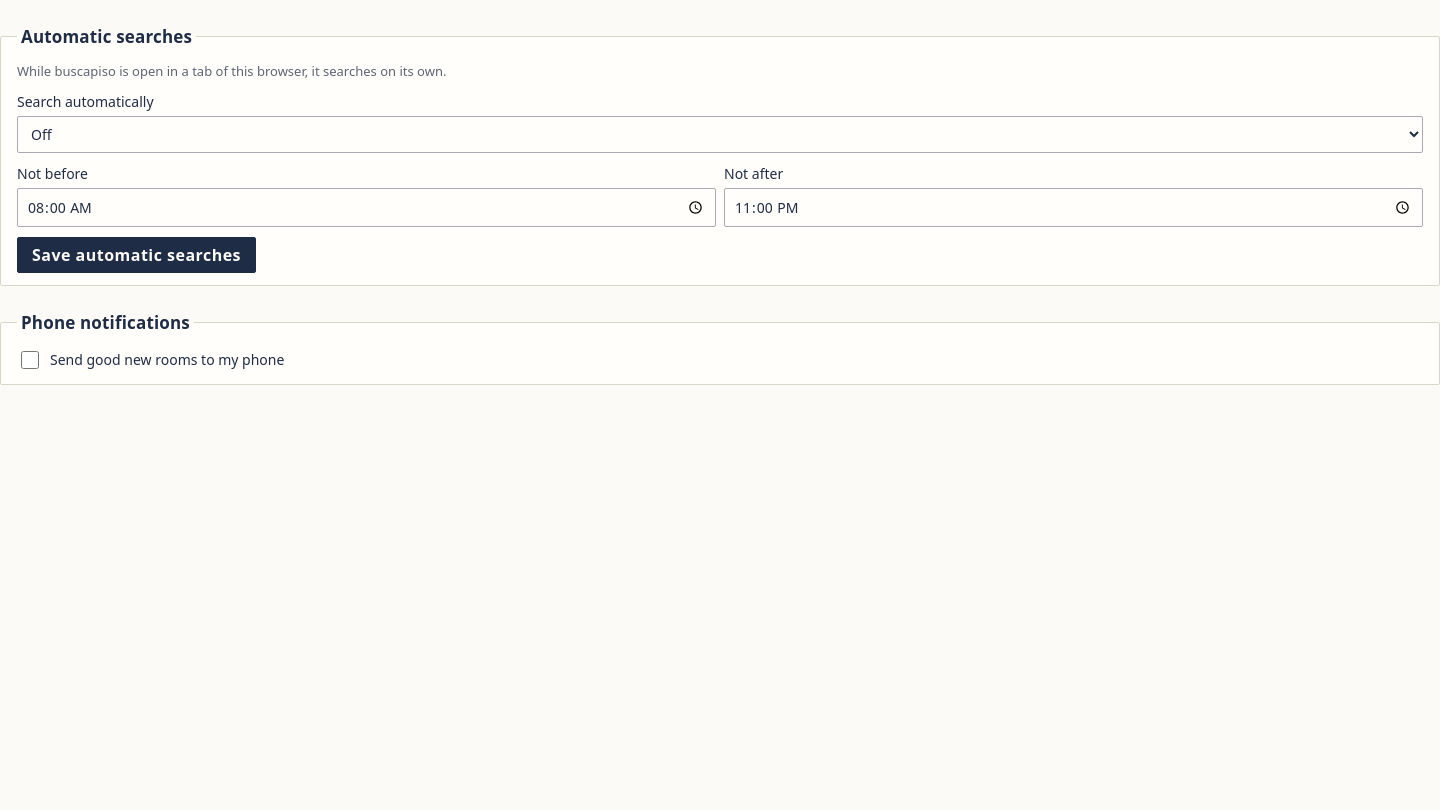
Test: turning on notifications shows the topic to subscribe to
The width and height of the screenshot is (1440, 810).
Click the checkbox labelled "Send good new rooms to my phone" at (30, 360), box [21,350,39,368]
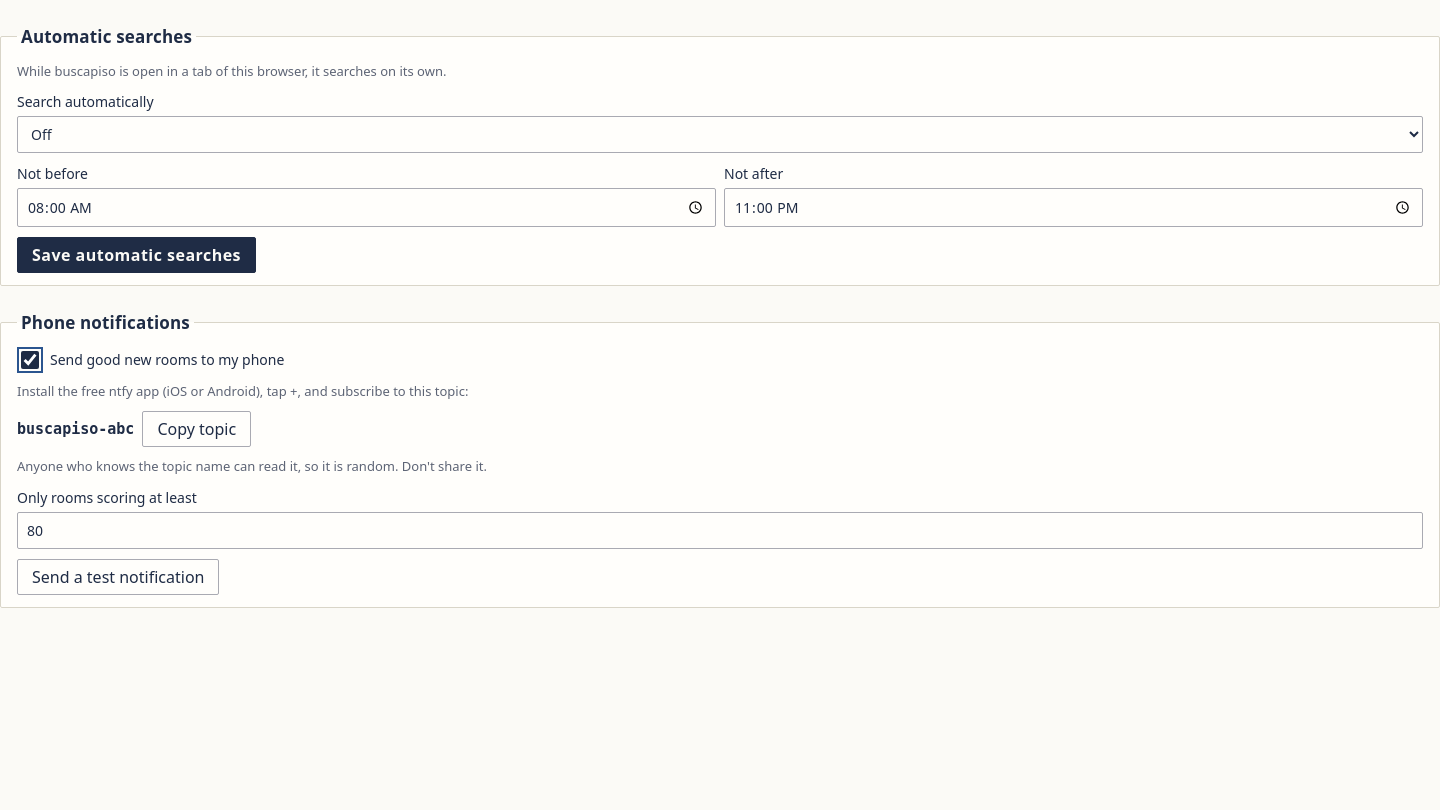
expect the text "buscapiso-abc" is shown: met, box [17,418,134,440]
Click the button "Send a test notification" at (118, 576), box [17,558,220,594]
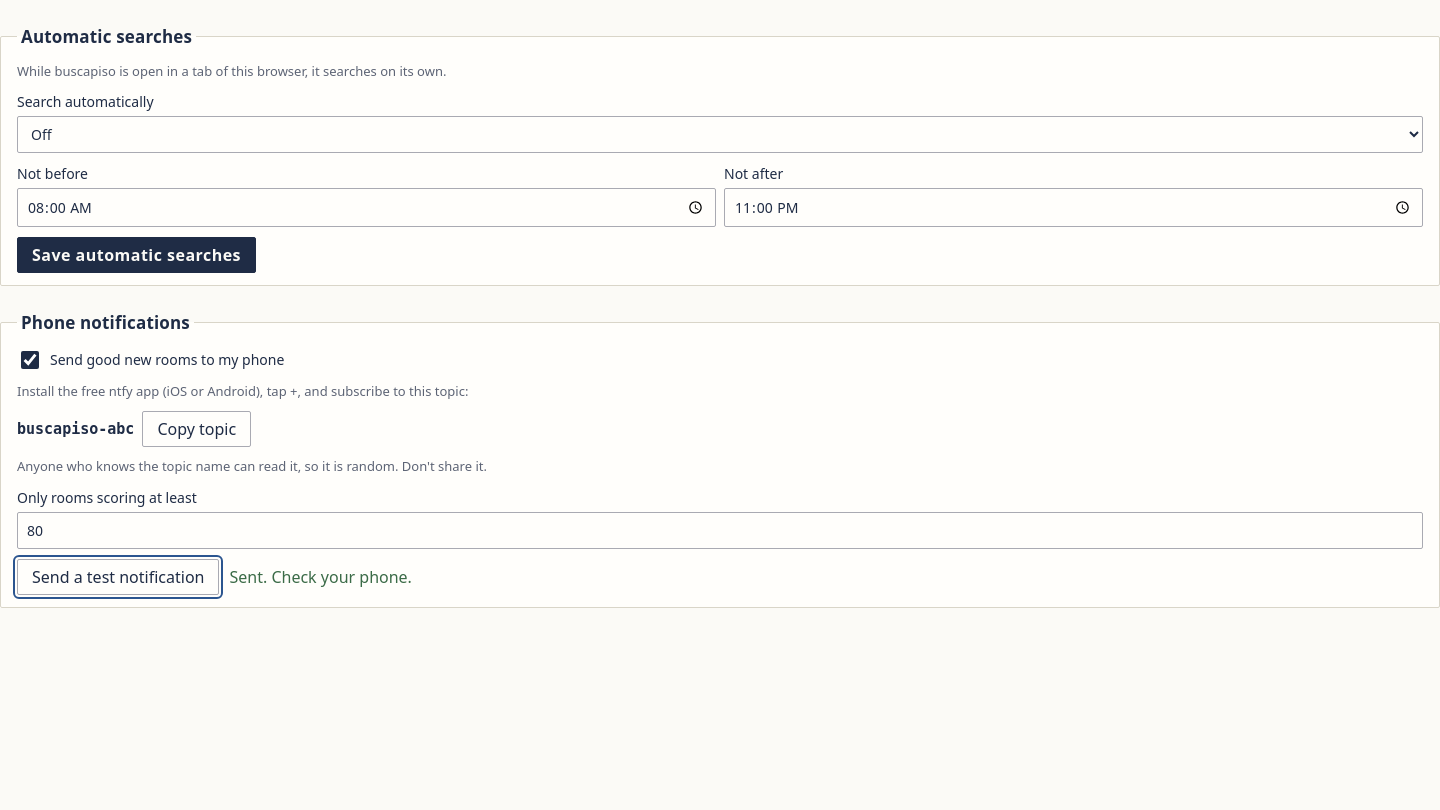
expect the text "Sent. Check your phone." is shown: met, box [230,564,412,588]
